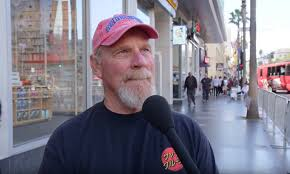no-mask: (90, 14, 155, 111)
